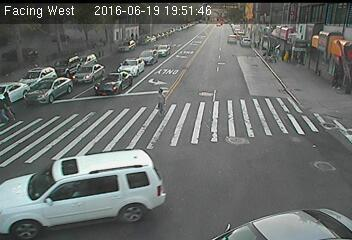neg: (281, 44, 297, 65), (273, 43, 284, 57), (262, 36, 272, 49), (227, 33, 236, 46)
pos: (148, 83, 172, 115)
